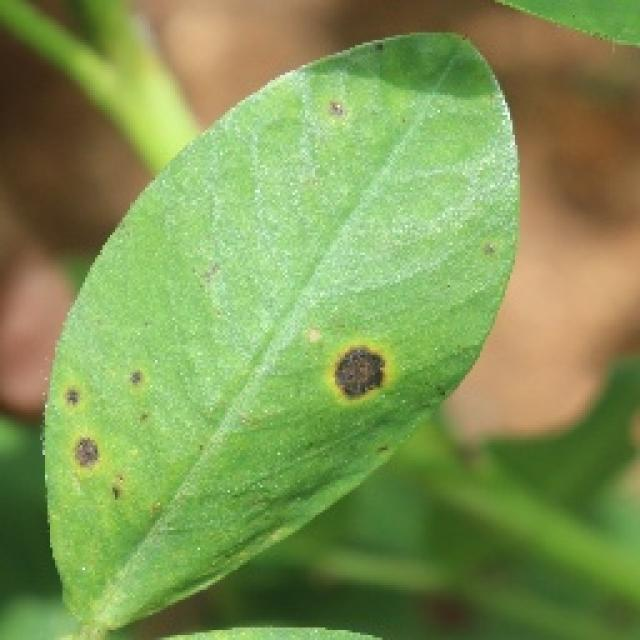Early_leaf_spot: (34, 355, 160, 514), (327, 346, 403, 418), (310, 76, 358, 164)
